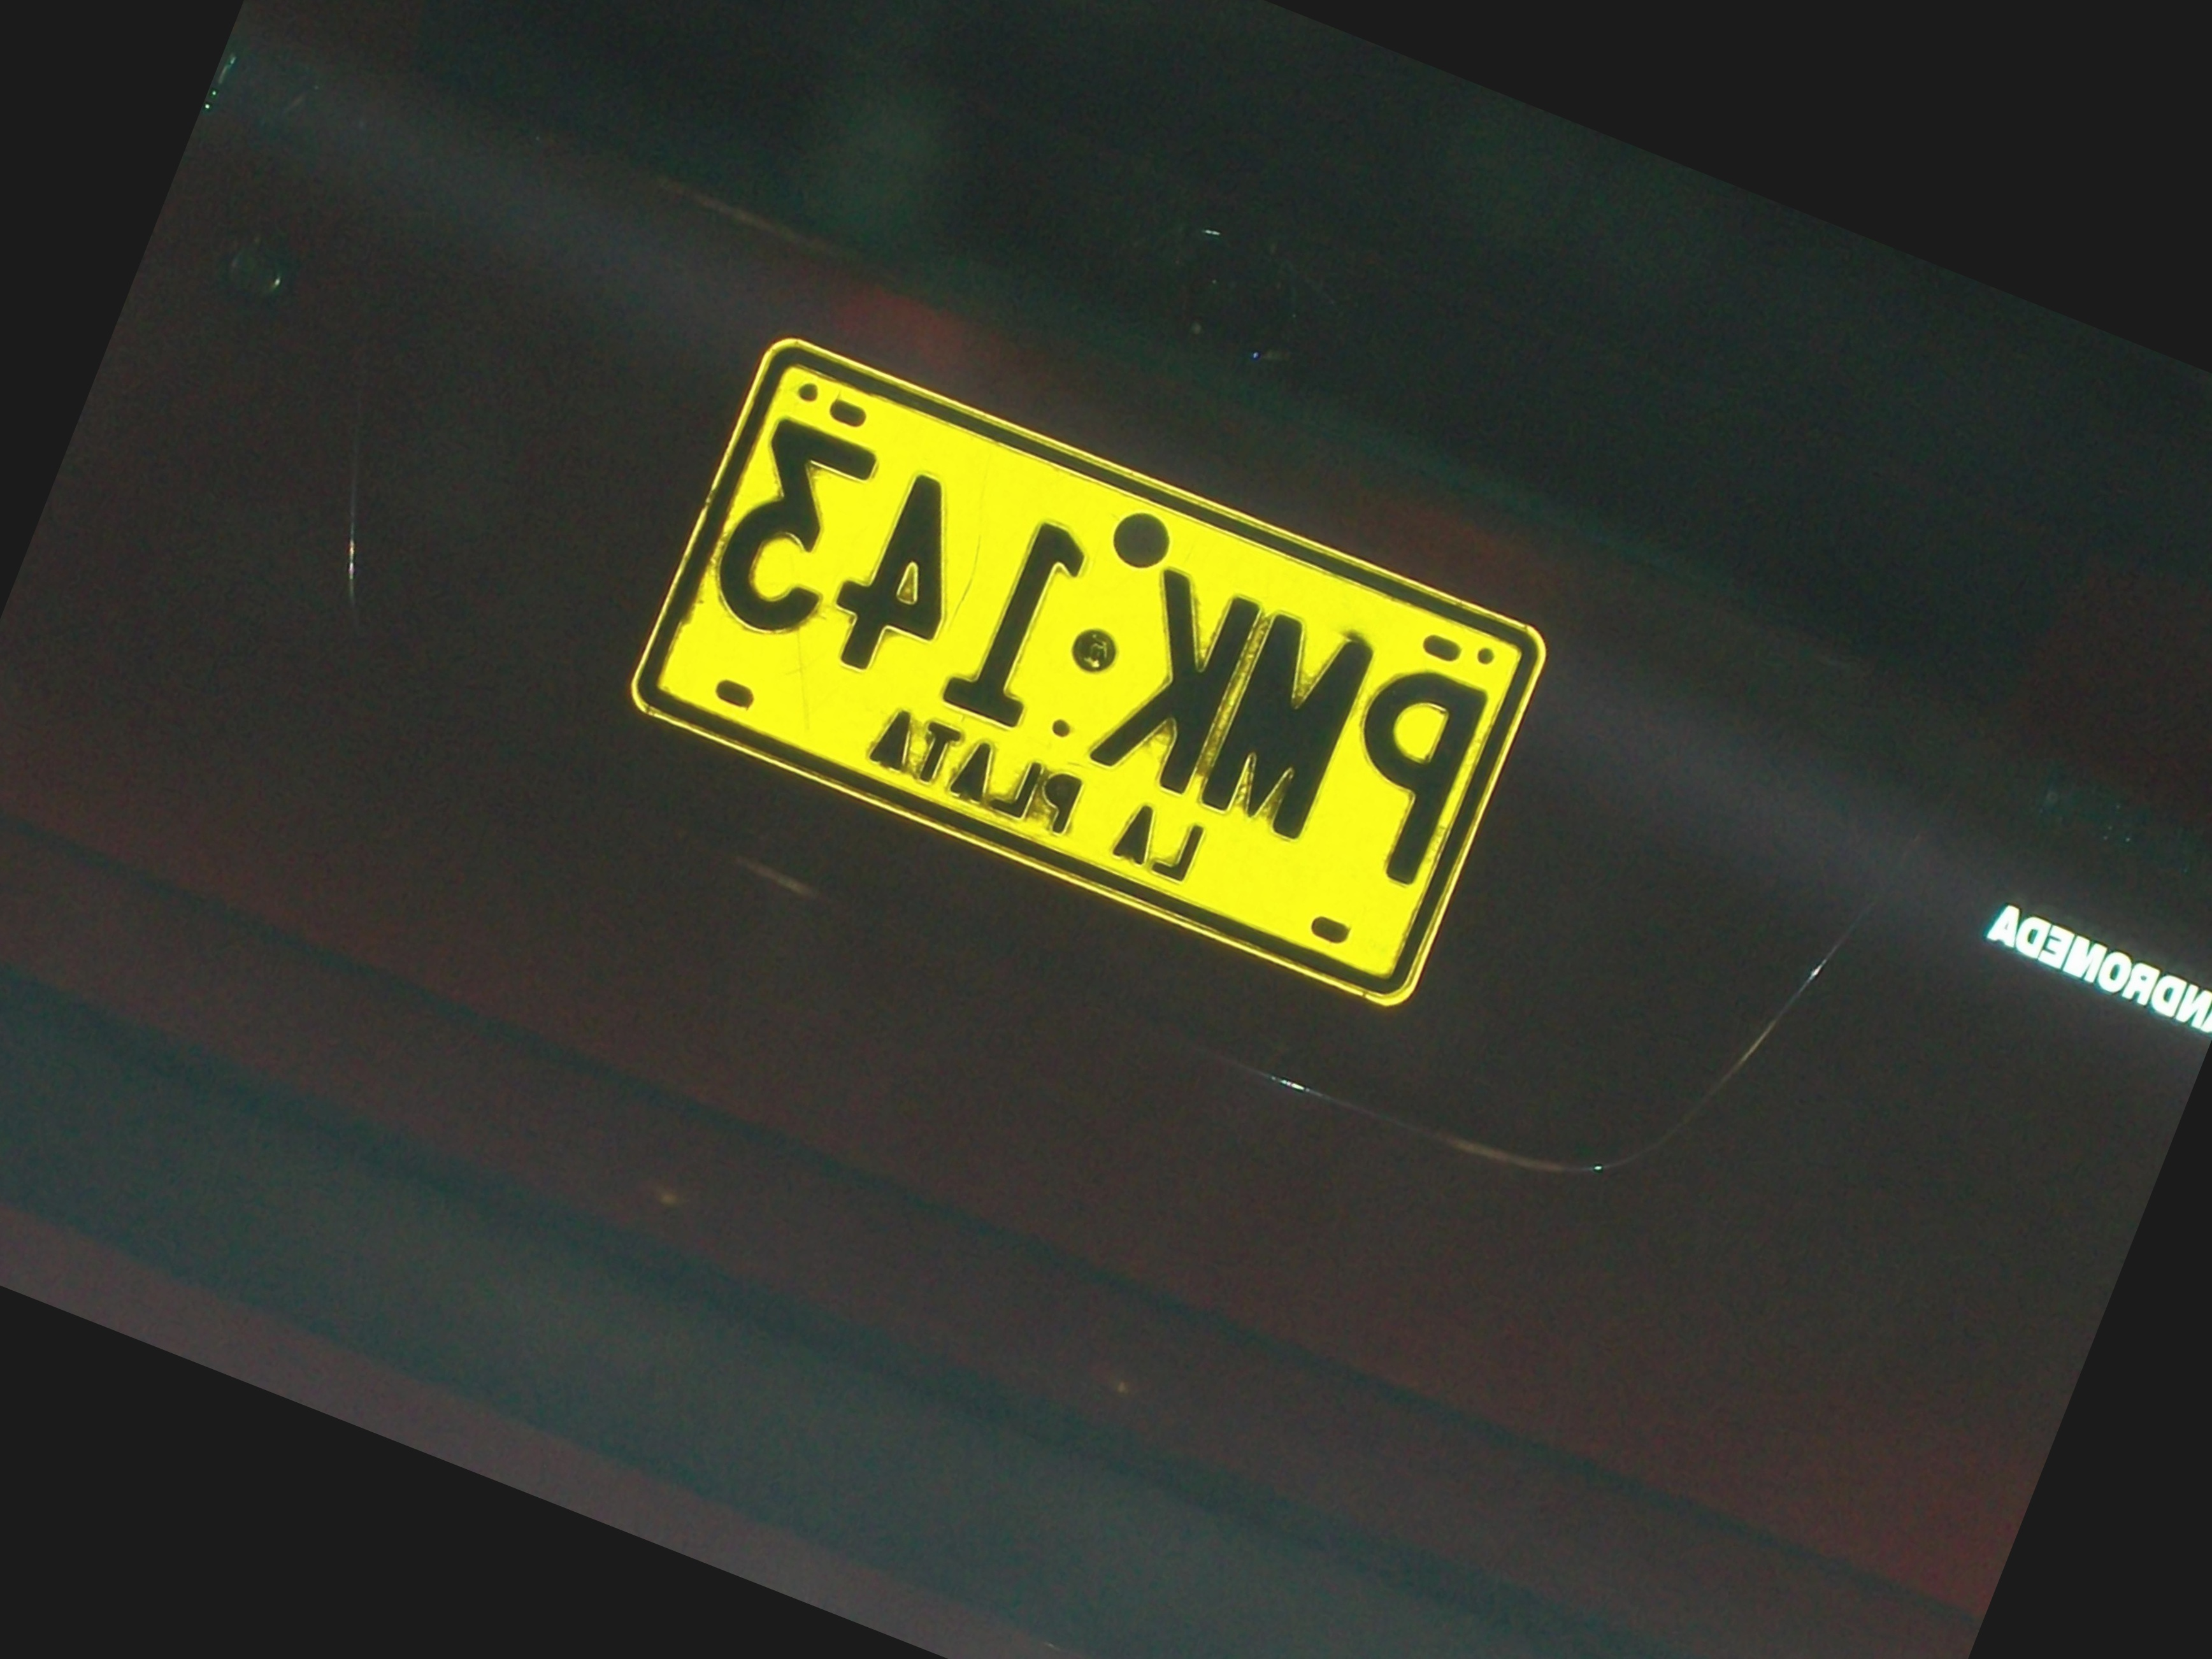placas: (608, 311, 1571, 1030)
